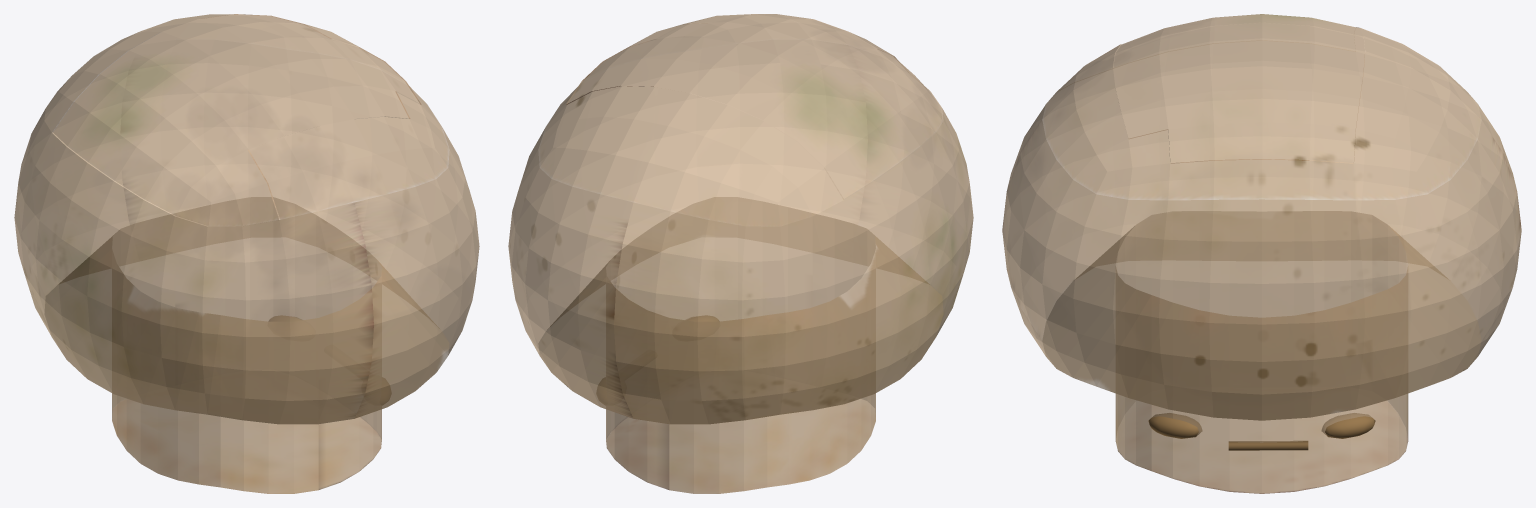
The model's file is mushroom.glb.
The picture shows the model from 3 angles, left to right: view 1: azimuth 30°, elevation 25°; view 2: azimuth 150°, elevation 25°; view 3: azimuth 270°, elevation 25°; orthographic projection. The views are drawn at different scales.
Visible parts, largest first — view 1: Cube; view 2: Cube; view 3: Cube, Icosphere, NurbsPath.
Part boxes in pixels (x1,y1,x2,y2): Cube: (14,14,479,493); Cube: (508,14,973,493); Cube: (1002,14,1521,493); Icosphere: (1148,413,1375,438); NurbsPath: (1228,441,1308,450).
Bounding box in the file's own units: 1.38 × 1.38 × 1.61.
3 materials, 1 textured.
